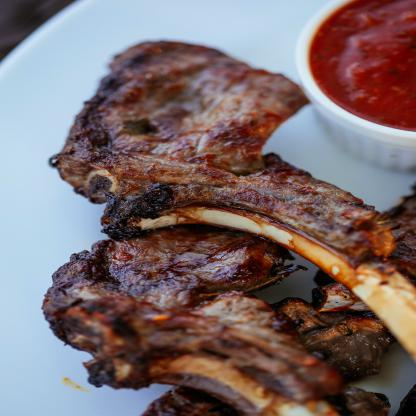Carne: (50, 38, 409, 205), (39, 238, 312, 358)
